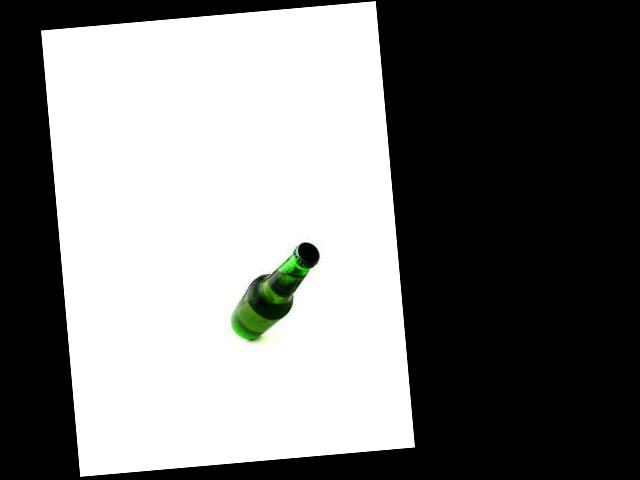beer: (224, 241, 326, 342)
